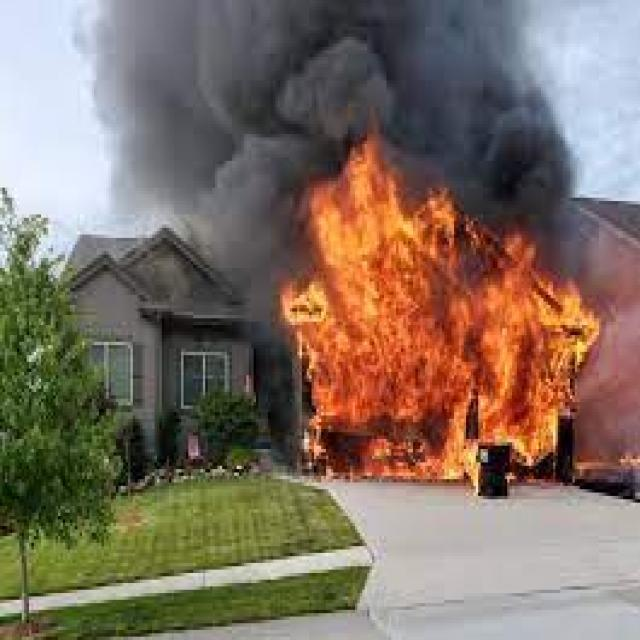Fire: (296, 183, 607, 494)
Smoke: (93, 0, 578, 272)
